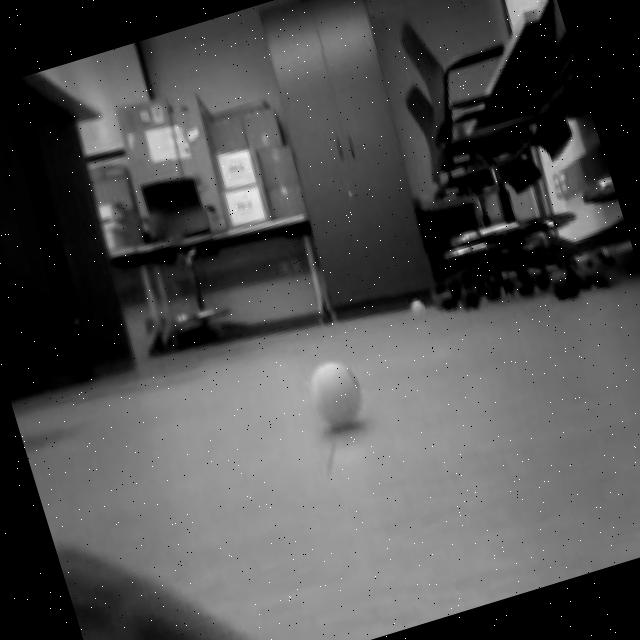ping-pong-ball: (298, 348, 372, 432), (402, 292, 427, 322)
